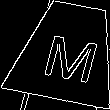M_N: (35, 22, 100, 82)
